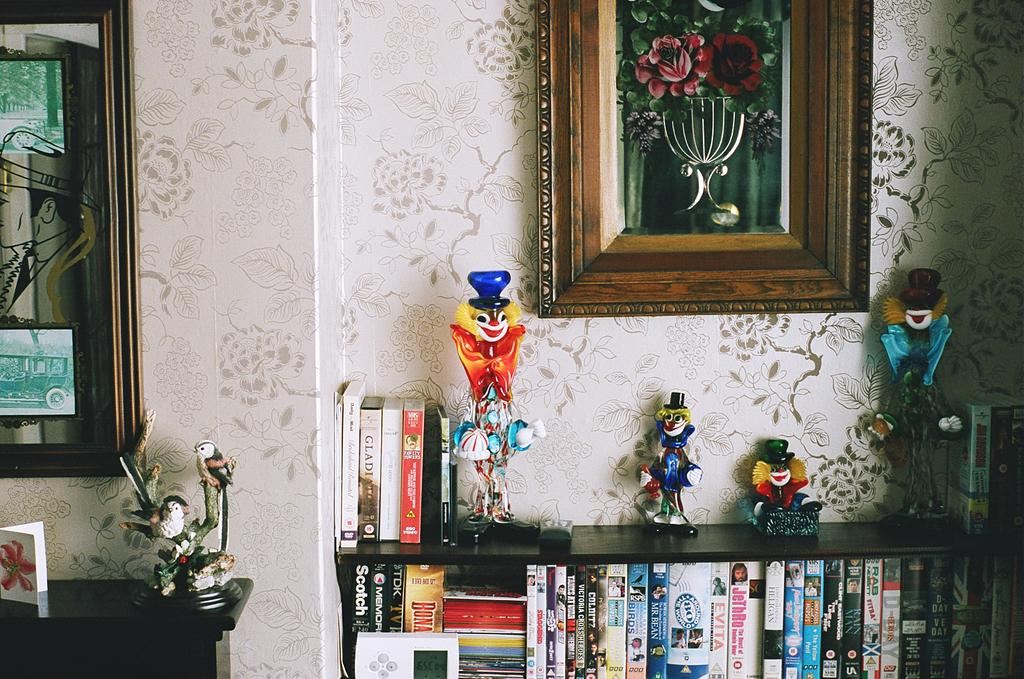Computer-monitor: (0, 1, 146, 479)
